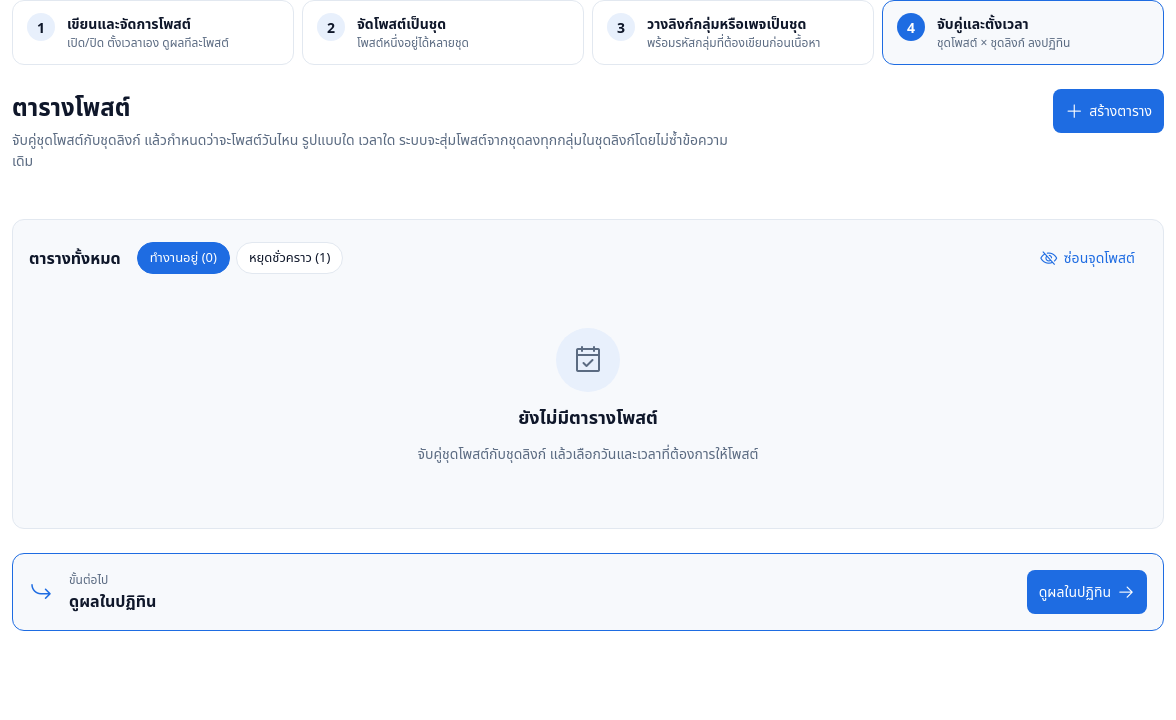
SchedulesPageComponent › the list › says a "once" schedule whose day has passed is finished, and offers no resume
Click the button with test id "filter-cancelled": (290, 258) [236,242,343,274]
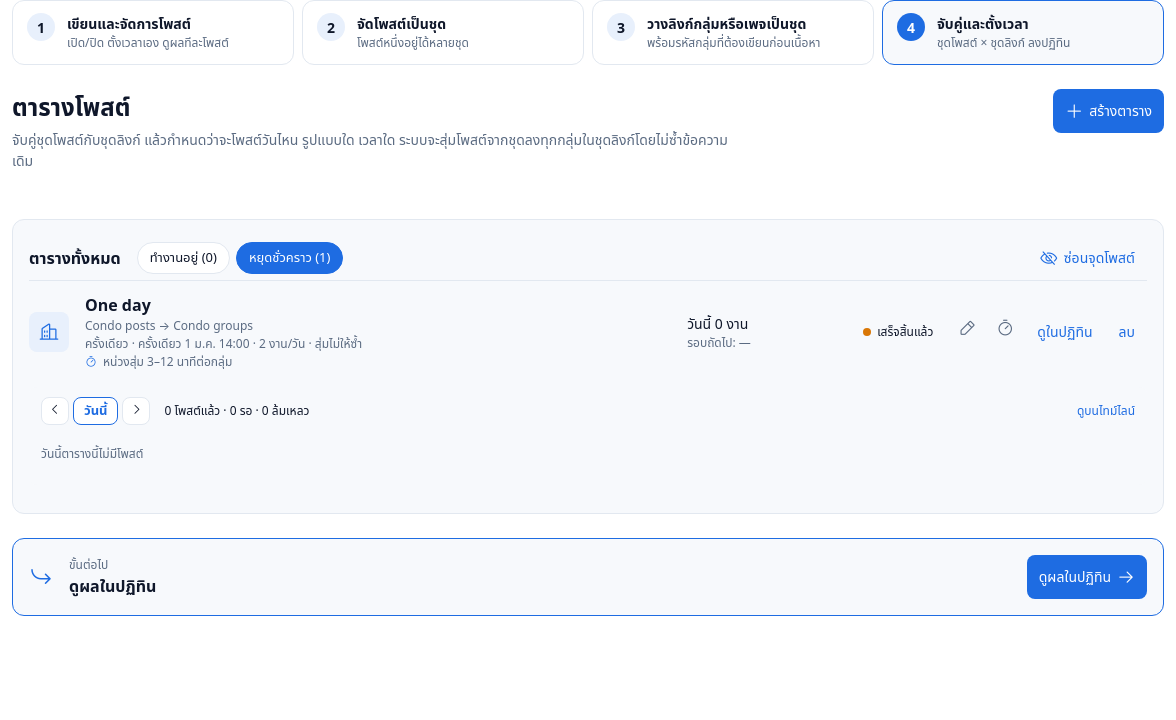
Expected: the button "ลบ" is shown, [1106,310,1147,354]
